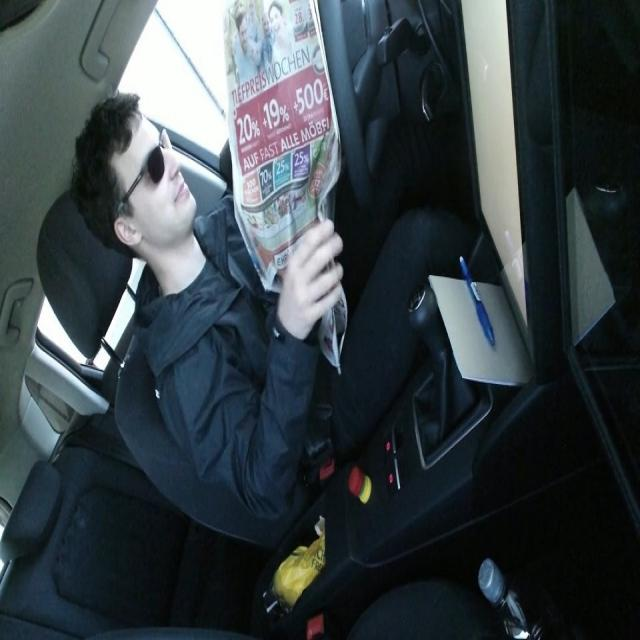pen: (458, 254, 495, 347)
